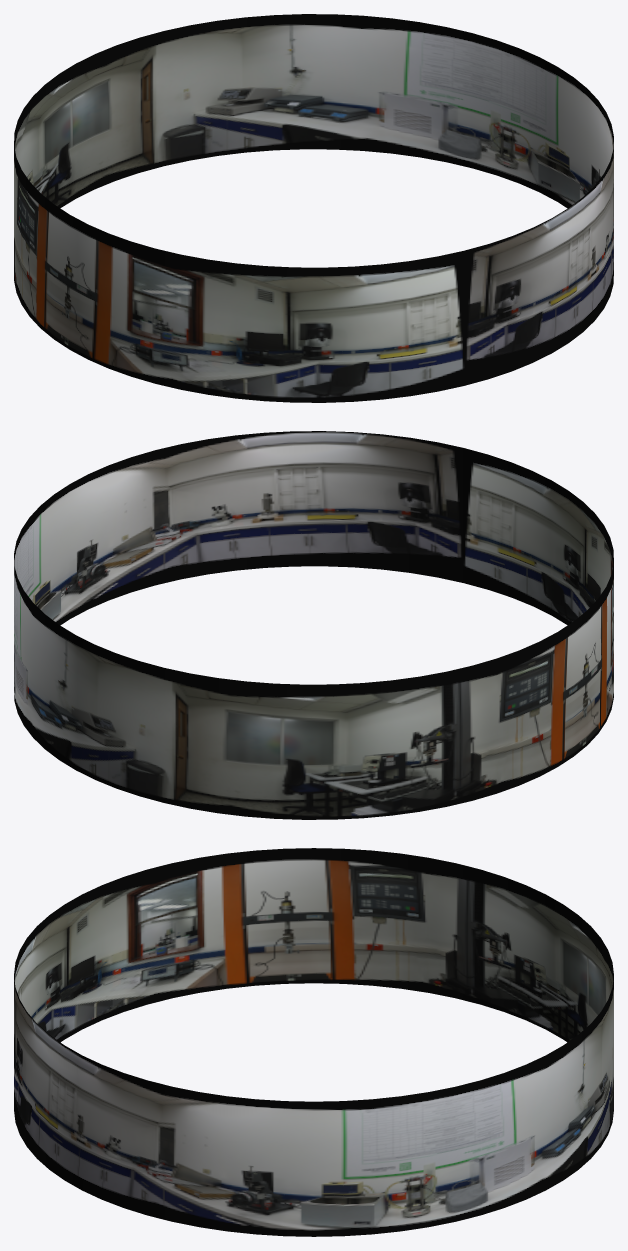
File: 360 sustratos .fbx
3 renders of one model, top to bottom at view 1: azimuth 30°, elevation 25°; view 2: azimuth 150°, elevation 25°; view 3: azimuth 270°, elevation 25°, orthographic.
Visible parts, largest first — view 1: Cylinder; view 2: Cylinder; view 3: Cylinder.
Part boxes in pixels (left/top/right/bottom): Cylinder: left=14, top=14, right=613, bottom=402; Cylinder: left=14, top=431, right=613, bottom=819; Cylinder: left=14, top=848, right=613, bottom=1236.
Bounding box in the file's own units: 6.02 × 1.5 × 6.02.
Materials: 1 (1 with a texture image).
